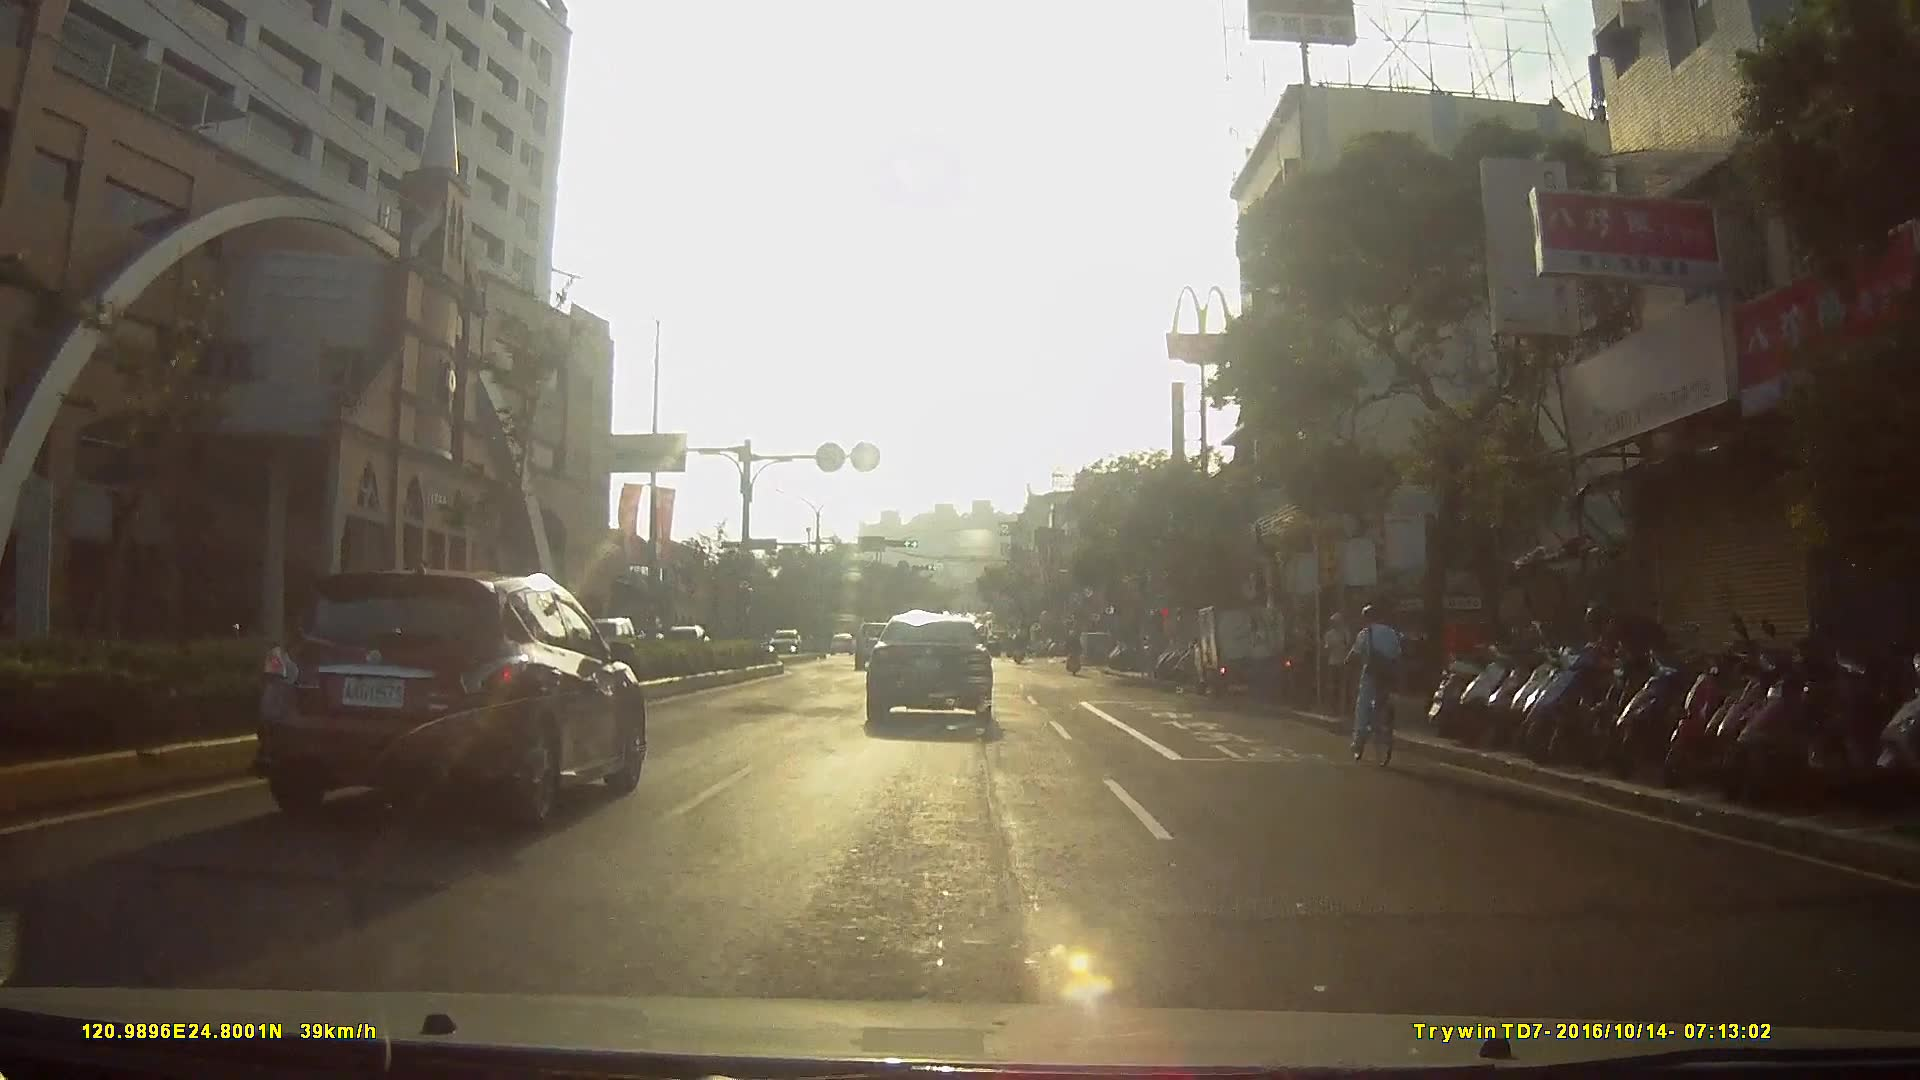pedestrian: (1324, 612, 1364, 717)
rider: (1336, 607, 1411, 771), (1065, 624, 1085, 675)
vehicle: (244, 563, 658, 828), (863, 608, 1007, 735), (1197, 597, 1303, 702), (851, 623, 910, 676), (765, 624, 805, 654), (822, 635, 849, 661)
